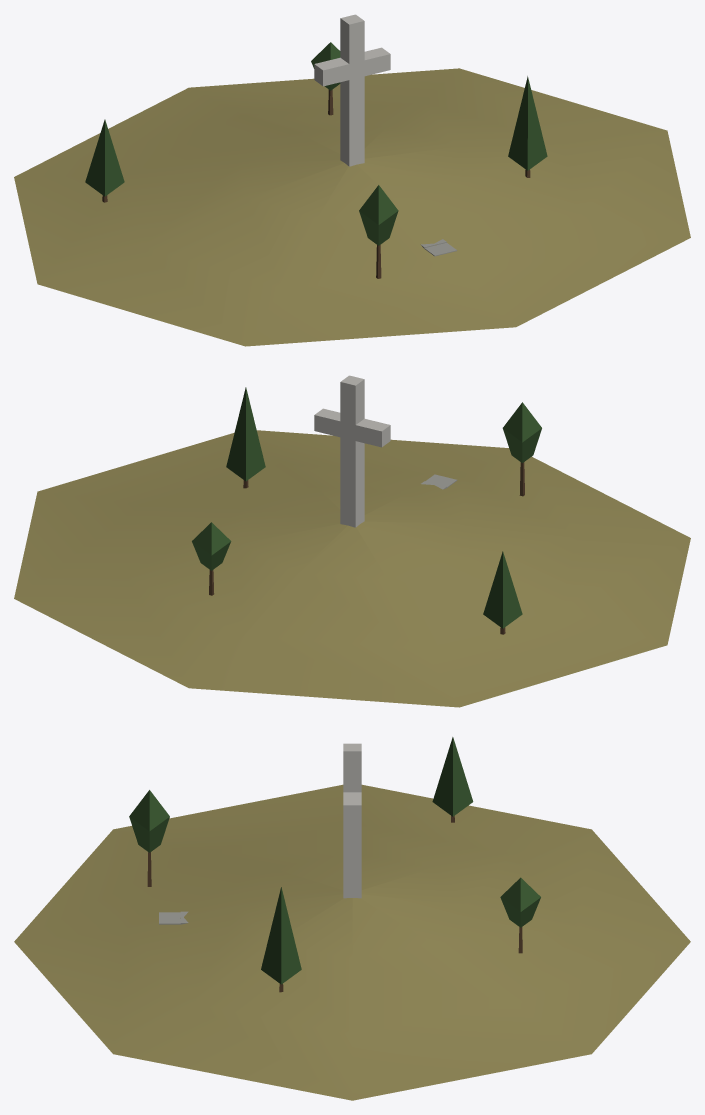
File: mobile-low.glb
3 renders of one model, top to bottom at view 1: azimuth 30°, elevation 25°; view 2: azimuth 150°, elevation 25°; view 3: azimuth 270°, elevation 25°, orthographic. The views are drawn at different scales.
Parts seen in each view (by area): view 1: lm.mount-davidson-cross; view 2: lm.mount-davidson-cross; view 3: lm.mount-davidson-cross.
Boxes of the visible parts, box(x1,y1,x2,y2) form: lm.mount-davidson-cross: box(14, 14, 690, 346); lm.mount-davidson-cross: box(14, 375, 690, 707); lm.mount-davidson-cross: box(14, 737, 690, 1100).
Bounding box in the file's own units: 140 × 39.9 × 126.
